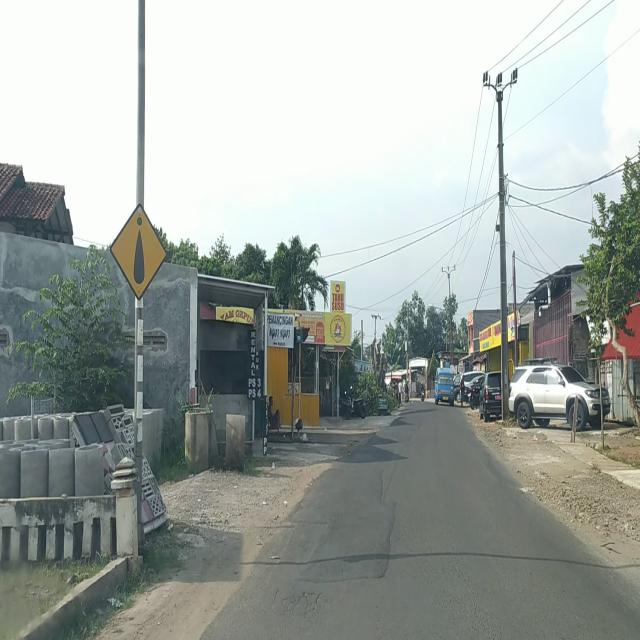Drain Hole: (279, 585, 330, 624)
